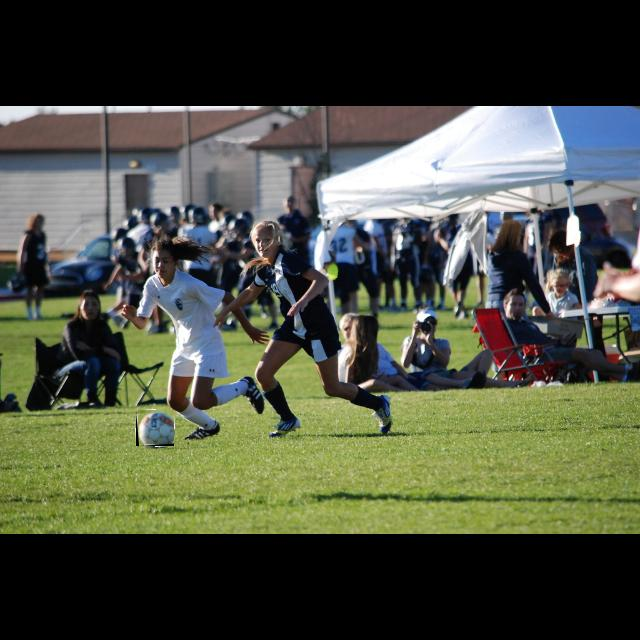Football: (136, 410, 174, 446)
